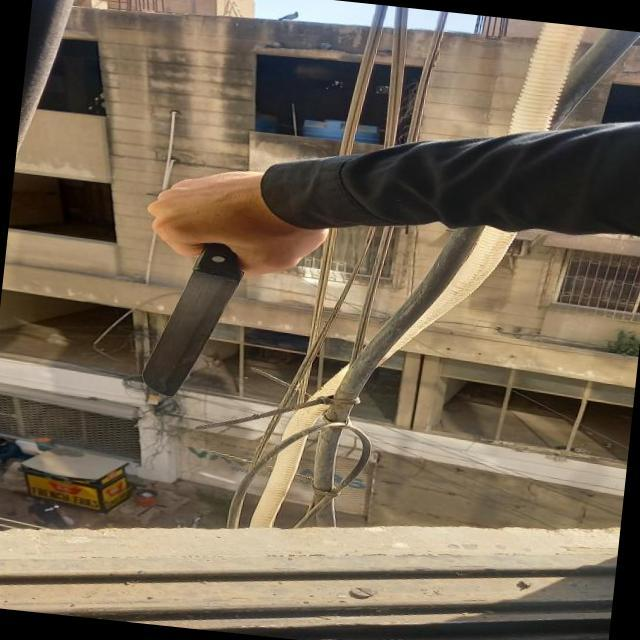Knife: (136, 170, 279, 418)
